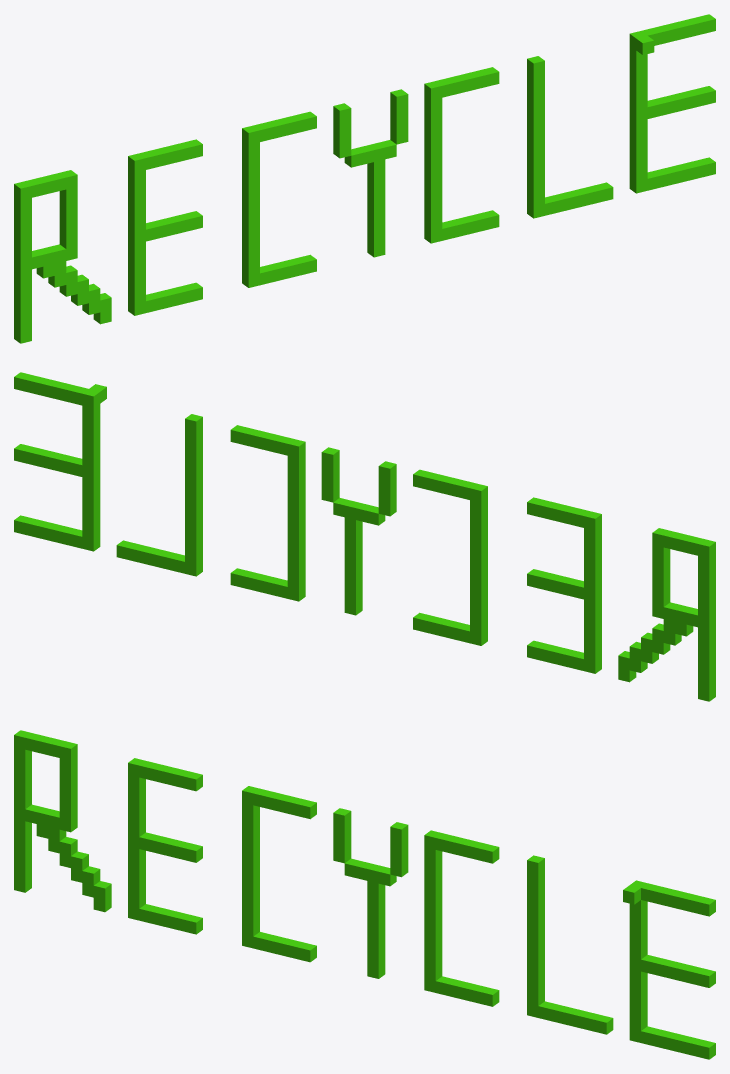
The model's file is recycle.obj.
The picture shows the model from 3 angles, top to bottom: view 1: azimuth 30°, elevation 25°; view 2: azimuth 150°, elevation 25°; view 3: azimuth 330°, elevation 25°; orthographic projection.
Size of the model in its own units: 6.1 by 1.3 by 0.2.
Materials: 1 (1 with a texture image).
